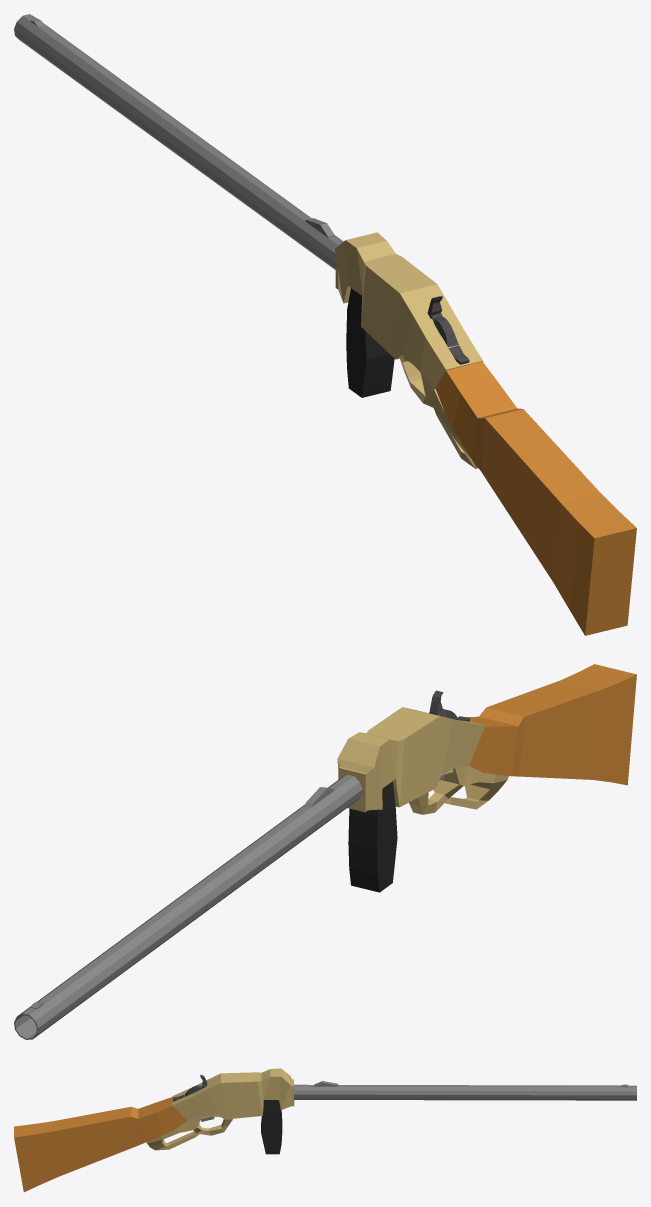
Rendered from HuntingRifleFBX.fbx.
3 views of the same model, one above another, from view 1: azimuth 30°, elevation 25°; view 2: azimuth 150°, elevation 25°; view 3: azimuth 270°, elevation 25° (orthographic). The views are drawn at different scales.
Visible parts, largest first — view 1: handle, rifle, barrel, magazine, top thing; view 2: handle, barrel, rifle, magazine; view 3: handle, rifle, barrel, magazine, top thing.
Part boxes in pixels (x1,y1,x2,y2): handle: (435, 361, 636, 635); rifle: (335, 232, 482, 468); barrel: (14, 14, 343, 269); magazine: (346, 288, 394, 397); top thing: (427, 296, 469, 364); handle: (465, 664, 636, 785); barrel: (14, 774, 362, 1039); rifle: (337, 707, 508, 814); magazine: (348, 781, 397, 892); handle: (14, 1097, 186, 1192); rifle: (146, 1068, 294, 1150); barrel: (294, 1081, 636, 1100); magazine: (261, 1100, 282, 1154); top thing: (172, 1074, 207, 1101).
Bounding box in the file's own units: 0.3402 × 1.65 × 8.17.
